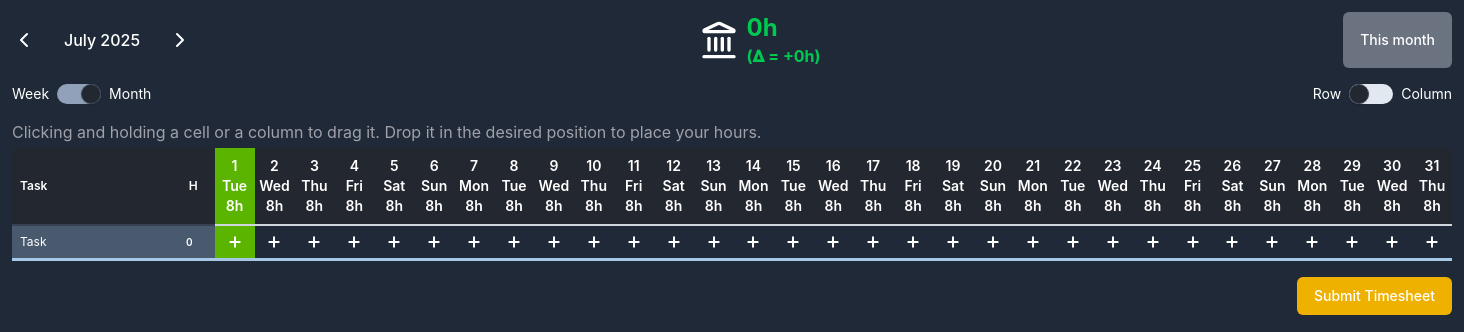
Krm3Calendar › current week button
Click the checkbox with id "switch-month-on".
click(79, 94)  # box [57,84,101,104]
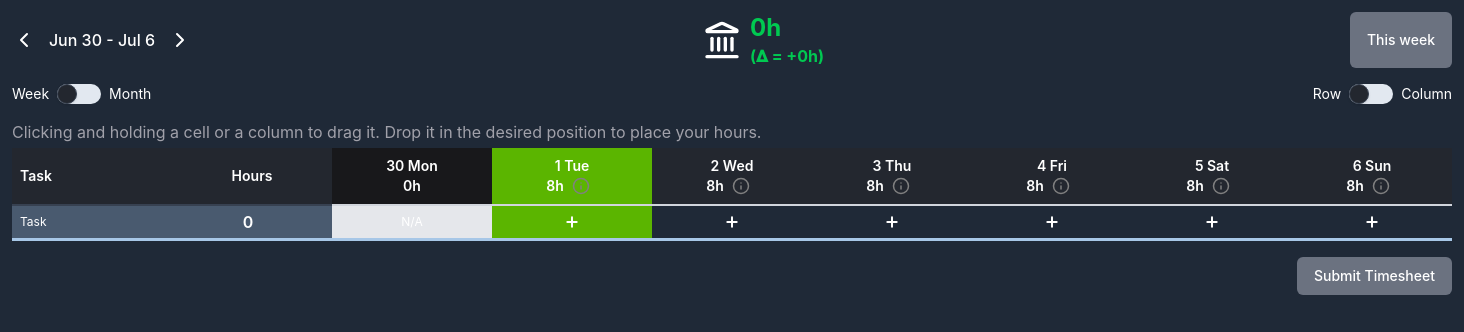
Check: the text "Jun 30" is shown, box [49,30,102,50]
Check: the text "Jul 6" is shown, box [118,30,155,50]
Click the button with id "nav-next-btn".
click(180, 40)  # box [168,28,192,52]
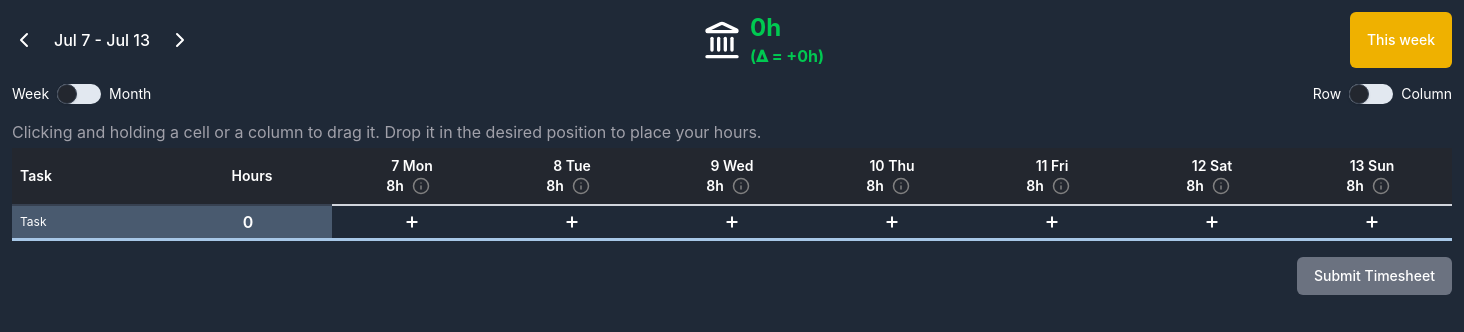
Check: the text "Jul 7" is shown, box [54,30,90,50]
Check: the text "Jul 13" is shown, box [106,30,150,50]
Click the button with id "krm3-calendar-current-week-button".
click(1401, 40)  # box [1350,12,1452,68]
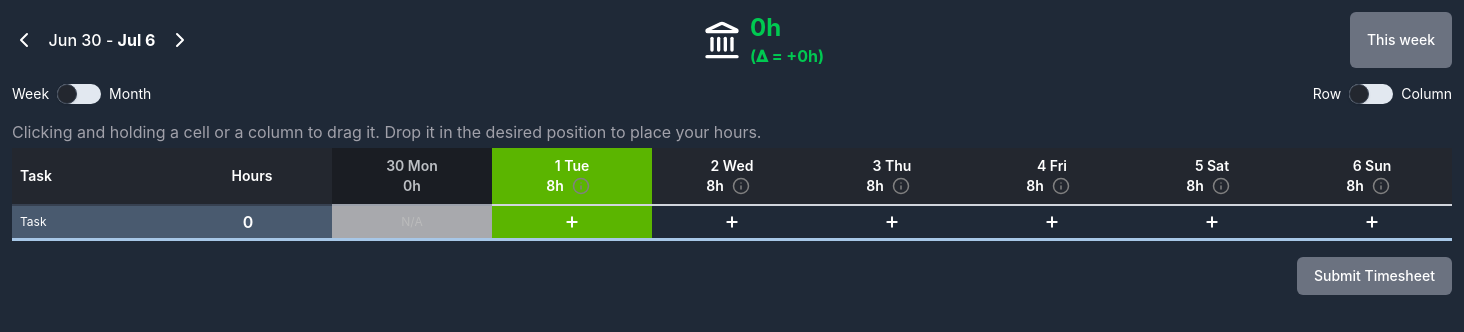
Check: the text "Jun 30" is shown, box [49,30,102,50]
Check: the text "Jul 6" is shown, box [118,30,155,50]
